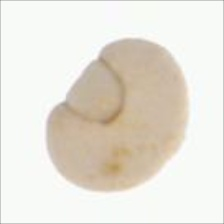L5: (59, 55, 129, 128)
L6: (41, 36, 190, 196)
